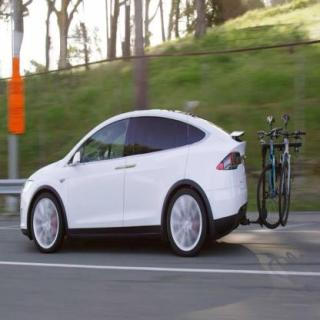Normal_vehicle: (21, 109, 247, 256)
